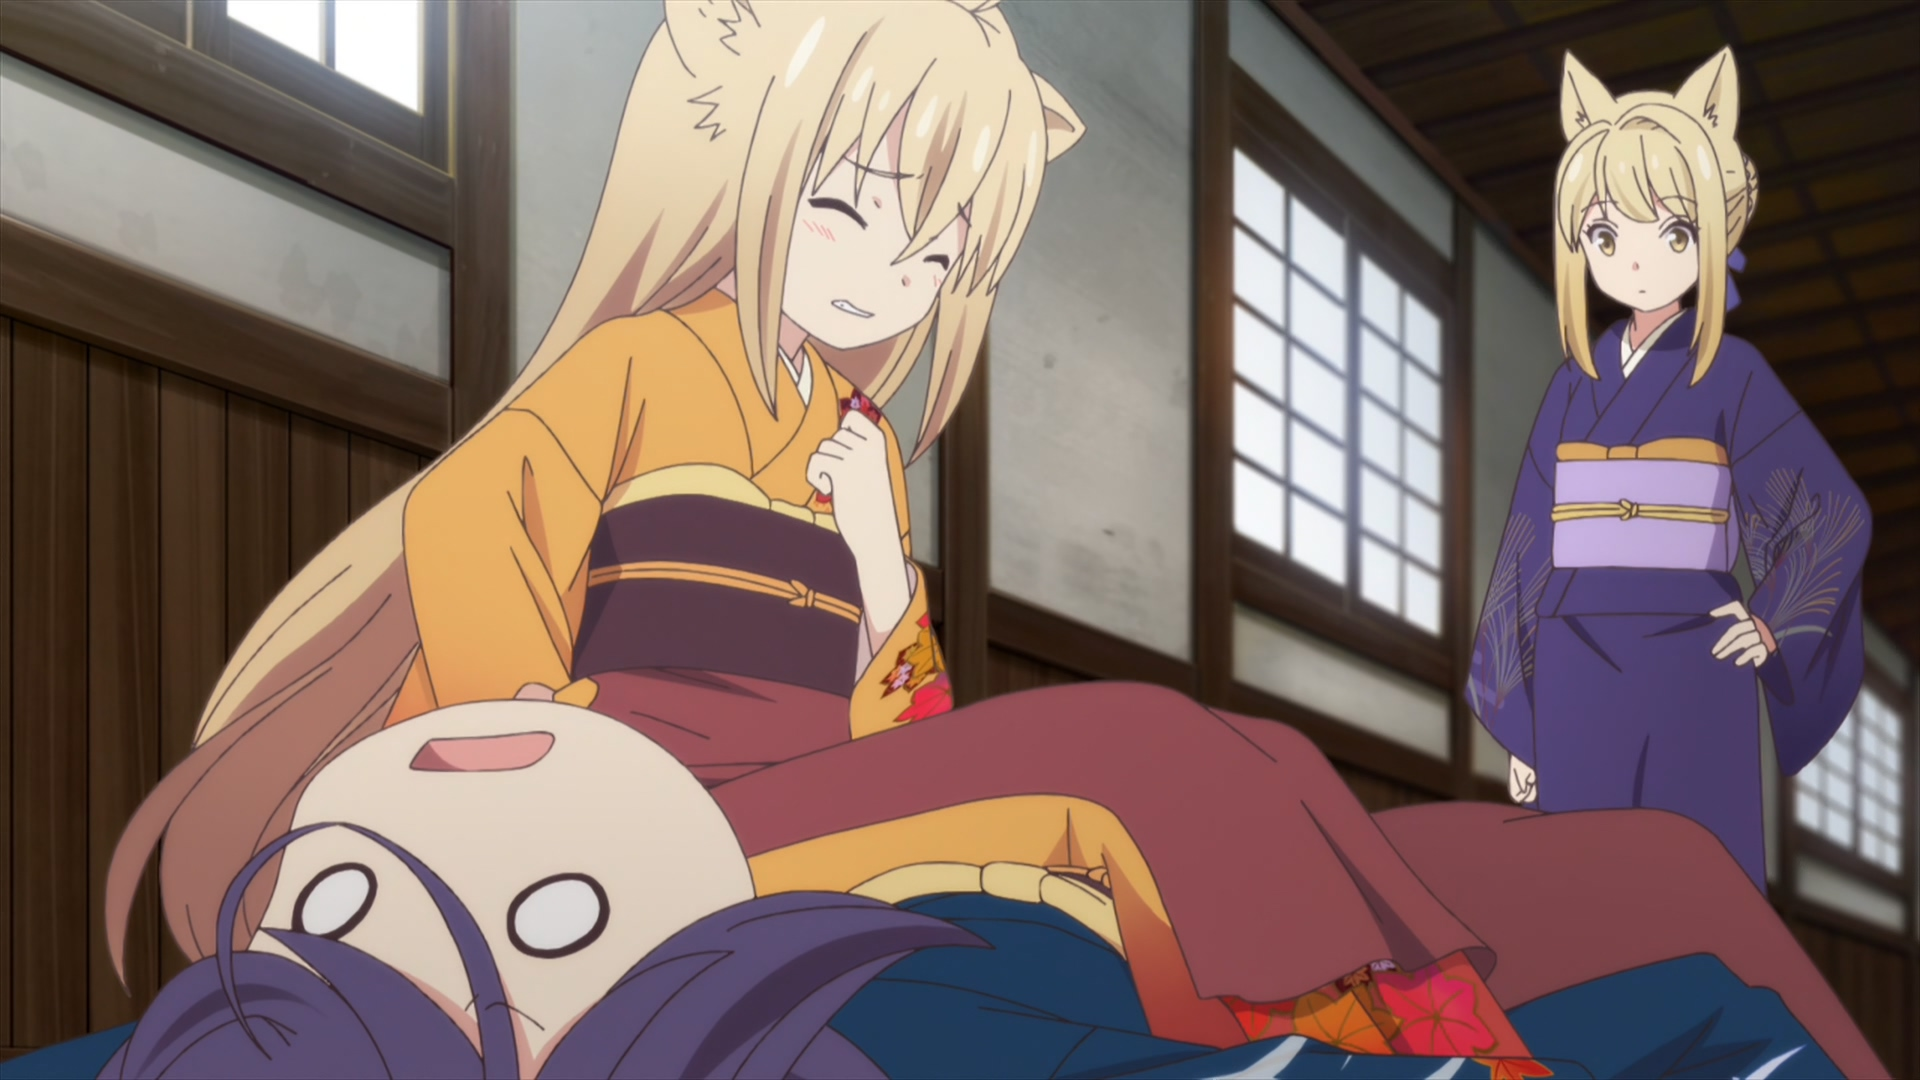柚: (102, 1, 1888, 1080)
桐: (1465, 47, 1871, 906)
皋: (1, 700, 1849, 1080)
